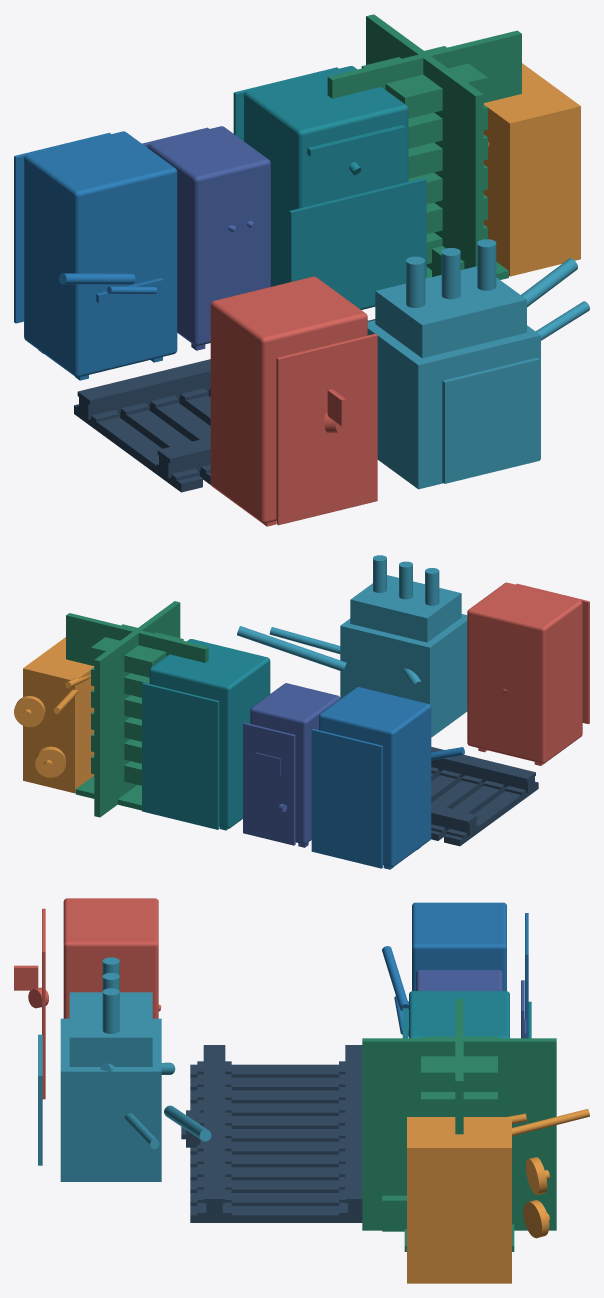
File: regentransit_service.glb
The picture shows the model from 3 angles, top to bottom: view 1: azimuth 30°, elevation 25°; view 2: azimuth 150°, elevation 25°; view 3: azimuth 270°, elevation 25°; orthographic projection. The views are drawn at different scales.
Parts seen in each view (by area): view 1: regentransit.protection_switchgear, regentransit.traction_inverter, regentransit.grid_wayside_interface, regentransit.wayside_converter, regentransit.storage_rack, regentransit.braking_control, regentransit.thermal_management, regentransit.rail_interface; view 2: regentransit.traction_inverter, regentransit.protection_switchgear, regentransit.wayside_converter, regentransit.grid_wayside_interface, regentransit.storage_rack, regentransit.braking_control, regentransit.thermal_management, regentransit.rail_interface; view 3: regentransit.rail_interface, regentransit.storage_rack, regentransit.grid_wayside_interface, regentransit.thermal_management, regentransit.protection_switchgear, regentransit.traction_inverter, regentransit.wayside_converter, regentransit.braking_control.
Part boxes in pixels (x1=…): regentransit.protection_switchgear: x1=210, y1=276, x2=377, y2=526; regentransit.traction_inverter: x1=14, y1=131, x2=177, y2=380; regentransit.grid_wayside_interface: x1=367, y1=239, x2=589, y2=489; regentransit.wayside_converter: x1=233, y1=66, x2=426, y2=309; regentransit.storage_rack: x1=327, y1=14, x2=521, y2=279; regentransit.braking_control: x1=142, y1=126, x2=270, y2=350; regentransit.thermal_management: x1=483, y1=63, x2=580, y2=276; regentransit.rail_interface: x1=74, y1=319, x2=375, y2=492; regentransit.traction_inverter: x1=311, y1=687, x2=464, y2=869; regentransit.protection_switchgear: x1=467, y1=582, x2=589, y2=765; regentransit.wayside_converter: x1=142, y1=639, x2=270, y2=830; regentransit.grid_wayside_interface: x1=237, y1=555, x2=467, y2=737; regentransit.storage_rack: x1=66, y1=601, x2=208, y2=817; regentransit.braking_control: x1=243, y1=683, x2=340, y2=847; regentransit.thermal_management: x1=14, y1=637, x2=94, y2=793; regentransit.rail_interface: x1=431, y1=747, x2=538, y2=846; regentransit.rail_interface: x1=181, y1=1045, x2=362, y2=1222; regentransit.storage_rack: x1=362, y1=999, x2=556, y2=1251; regentransit.grid_wayside_interface: x1=38, y1=957, x2=211, y2=1181; regentransit.thermal_management: x1=407, y1=1109, x2=589, y2=1283; regentransit.protection_switchgear: x1=14, y1=898, x2=161, y2=1099; regentransit.traction_inverter: x1=382, y1=902, x2=528, y2=1038; regentransit.wayside_converter: x1=402, y1=991, x2=531, y2=1038; regentransit.braking_control: x1=416, y1=970, x2=526, y2=1038.
Bounding box in the file's own units: 2689 × 1110 × 2844.
